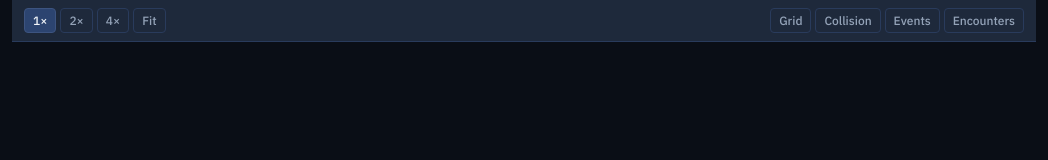
Test: GbcMapCanvas: Encounters overlay (Plan 6c B4) › morn: the nite-only species is dimmed (still present), the morn one is not; the legend names the time and the + buff
The width and height of the screenshot is (1048, 160).
Click the button "Encounters" at (984, 20), box [944,8,1024,33]
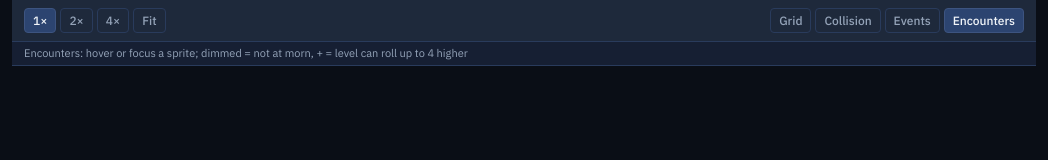
Expected: the number of buttons "Encounters" is 1, [944,8,1024,33]
Result: the text "Encounters: hover or focus a sprite; dimmed = not at morn, + = level can roll up to 4 higher" is shown at [24,46,468,60]
